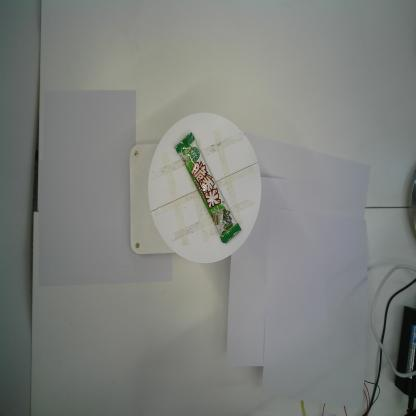Chocolate: (173, 131, 242, 246)
